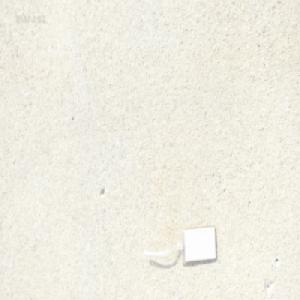LuggageTag: (140, 223, 217, 266)
